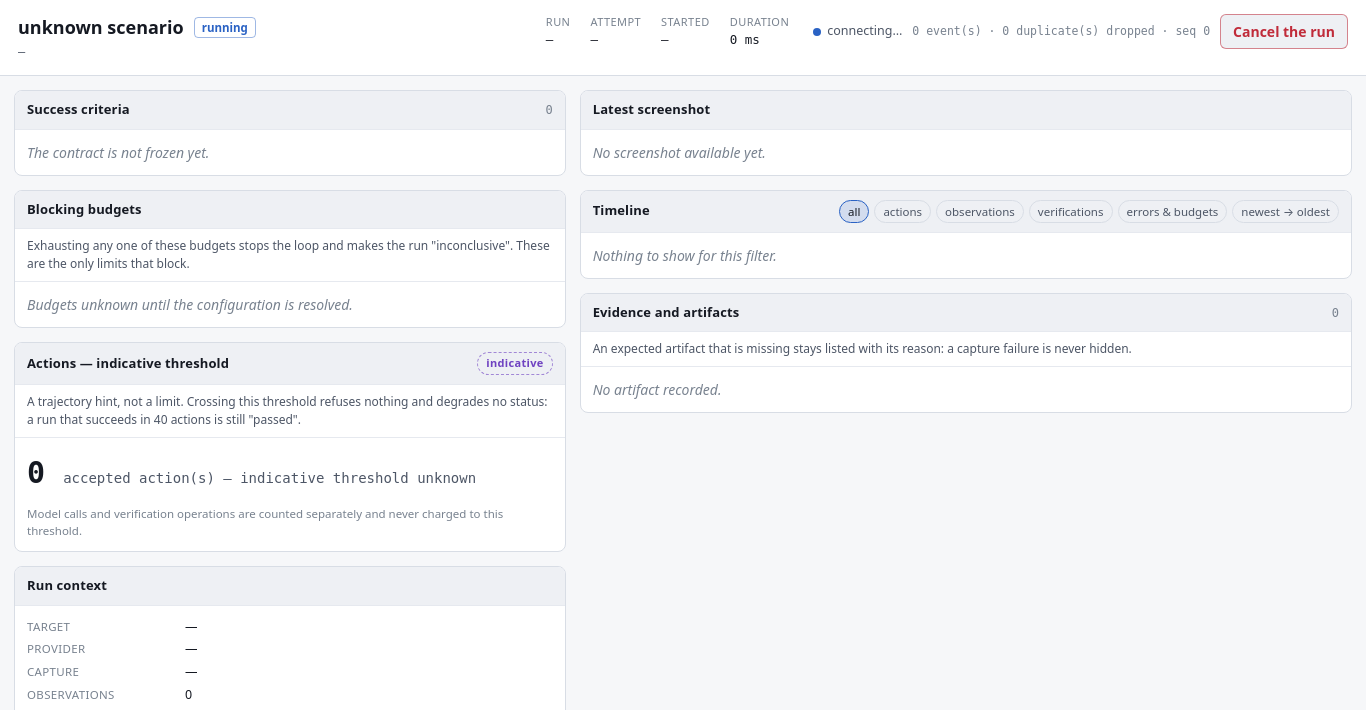
Test case: App — cancellation › surfaces a rejected cancellation and leaves the button usable
Click the button with test id "cancel-button": x=1284, y=32 top-left (1220, 14), bottom-right (1348, 49)
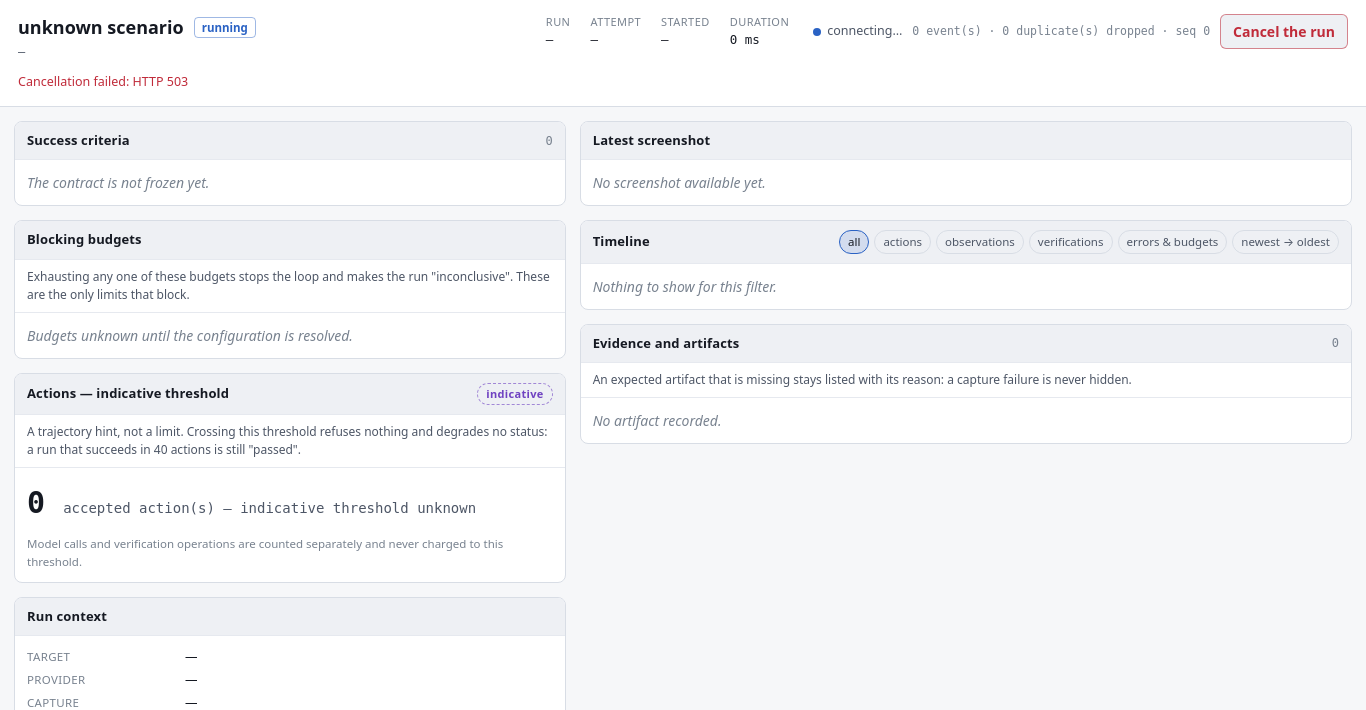
Now the text with test id "cancel-error" shows "HTTP 503", box top-left (132, 73), bottom-right (188, 90)
